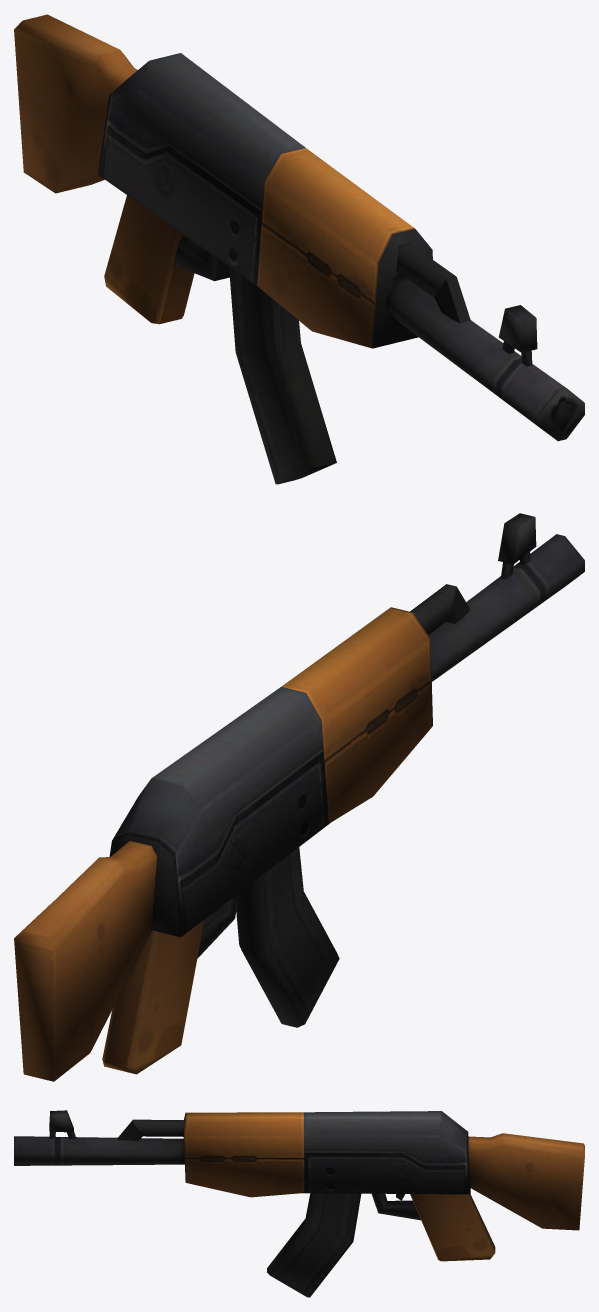
The model's file is Weapon_AK47_2a62e44b__Weapon_Ak47_1a6baa88_c1f257.obj.
3 renders of one model, top to bottom at view 1: azimuth 30°, elevation 25°; view 2: azimuth 150°, elevation 25°; view 3: azimuth 270°, elevation 25°, orthographic. The views are drawn at different scales.
Bounding box in the file's own units: 0.1107 × 0.4437 × 1.25.
Materials: 1 (1 with a texture image).
